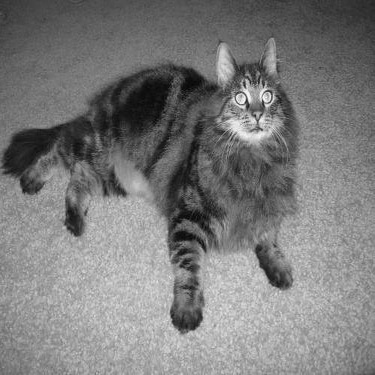cat: (5, 37, 301, 334)
